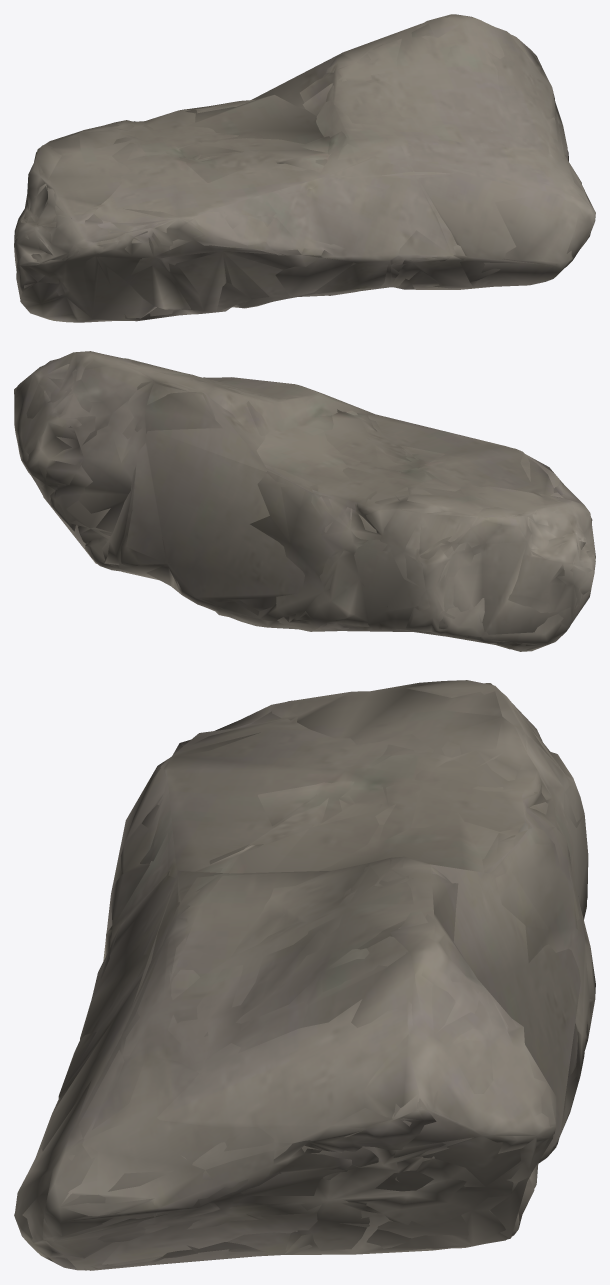
The model's file is moon_rock_01.glb.
3 renders of one model, top to bottom at view 1: azimuth 30°, elevation 25°; view 2: azimuth 150°, elevation 25°; view 3: azimuth 270°, elevation 25°, orthographic. The views are drawn at different scales.
Parts seen in each view (by area): view 1: moon_rock_01_LOD0; view 2: moon_rock_01_LOD0; view 3: moon_rock_01_LOD0.
Part boxes in pixels (box(x1,y1,x2,y2)): moon_rock_01_LOD0: box(14, 14, 595, 322); moon_rock_01_LOD0: box(14, 351, 595, 651); moon_rock_01_LOD0: box(14, 680, 595, 1270).
Size of the model in its own units: 0.2123 by 0.0751 by 0.1114.
Materials: 1 (1 with a texture image).
